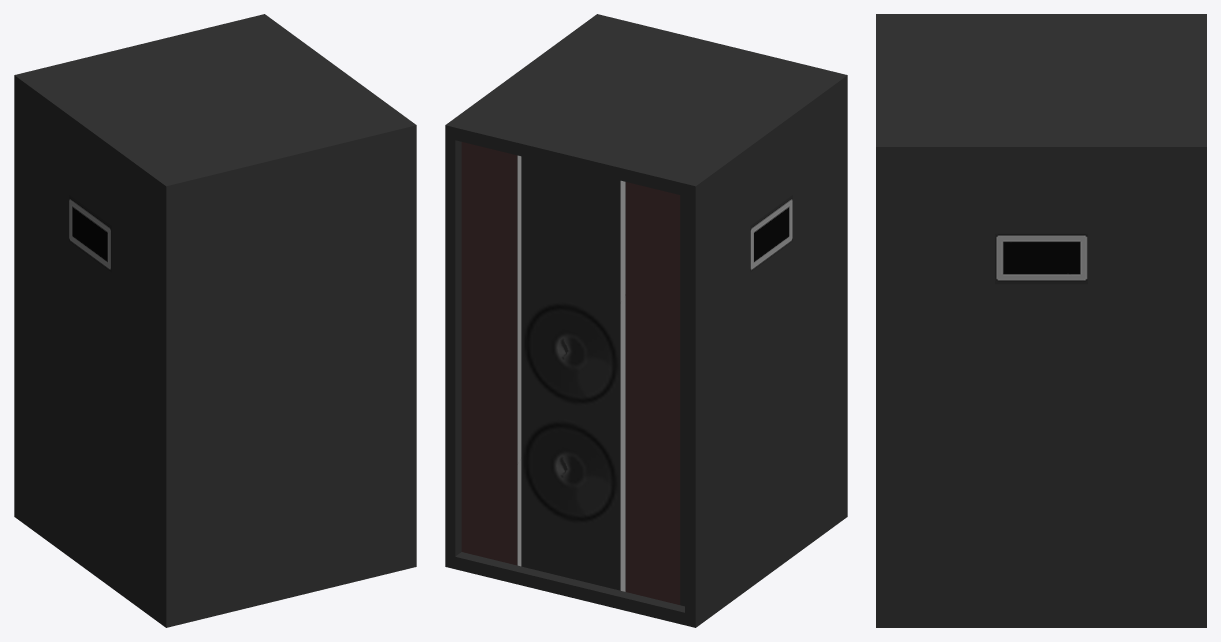
Rendered from Big_amp_speaker_2.fbx.
3 views of the same model, side by side, from view 1: azimuth 30°, elevation 25°; view 2: azimuth 150°, elevation 25°; view 3: azimuth 270°, elevation 25° (orthographic). The views are drawn at different scales.
Parts seen in each view (by area): view 1: Big_amp_speaker_2; view 2: Big_amp_speaker_2; view 3: Big_amp_speaker_2.
Part boxes in pixels (box(x1,y1,x2,y2)): Big_amp_speaker_2: box(14, 14, 416, 627); Big_amp_speaker_2: box(445, 14, 847, 627); Big_amp_speaker_2: box(876, 14, 1206, 627).
Size of the model in its own units: 1.25 by 2.1 by 1.31.
